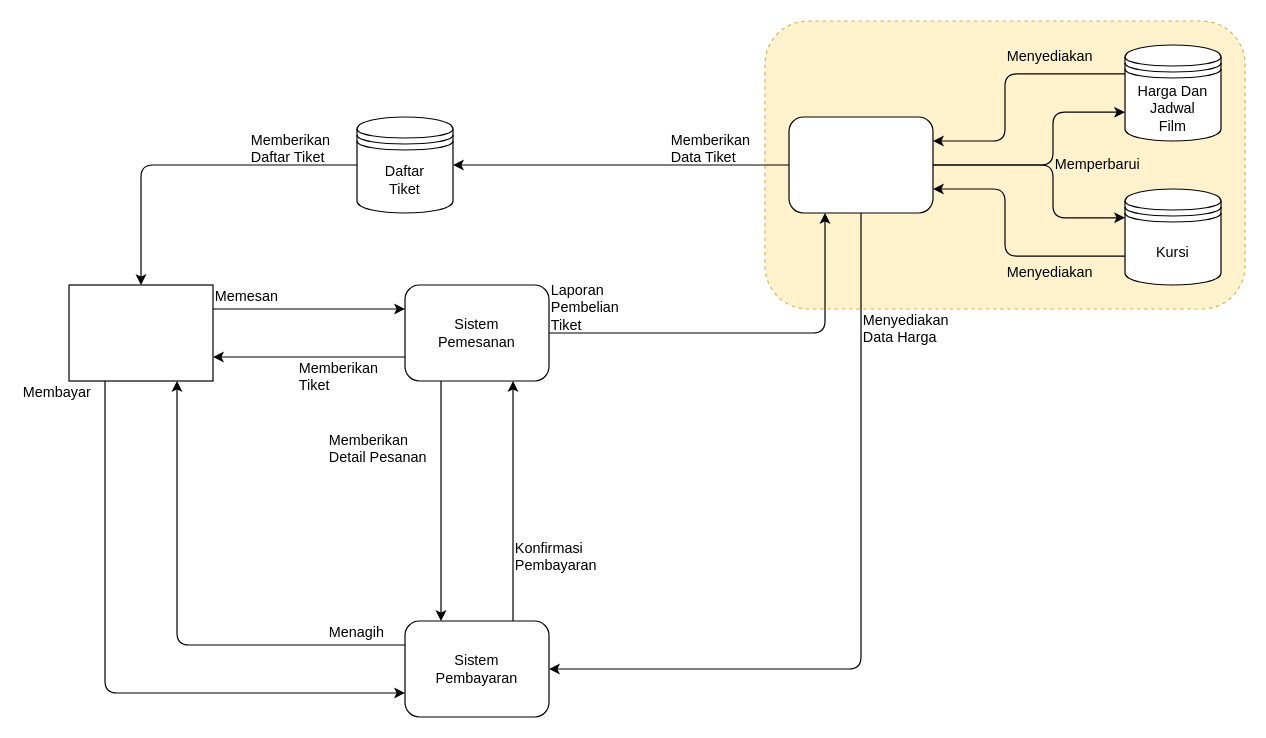
Some shapes in this 1266 by 738 pixel diagram are drawn without their labels. Each missing label, with the centre of its shape:
"Interface Database Bioskop" belongs at point (860, 164).
"Pelanggan" belongs at point (140, 332).
